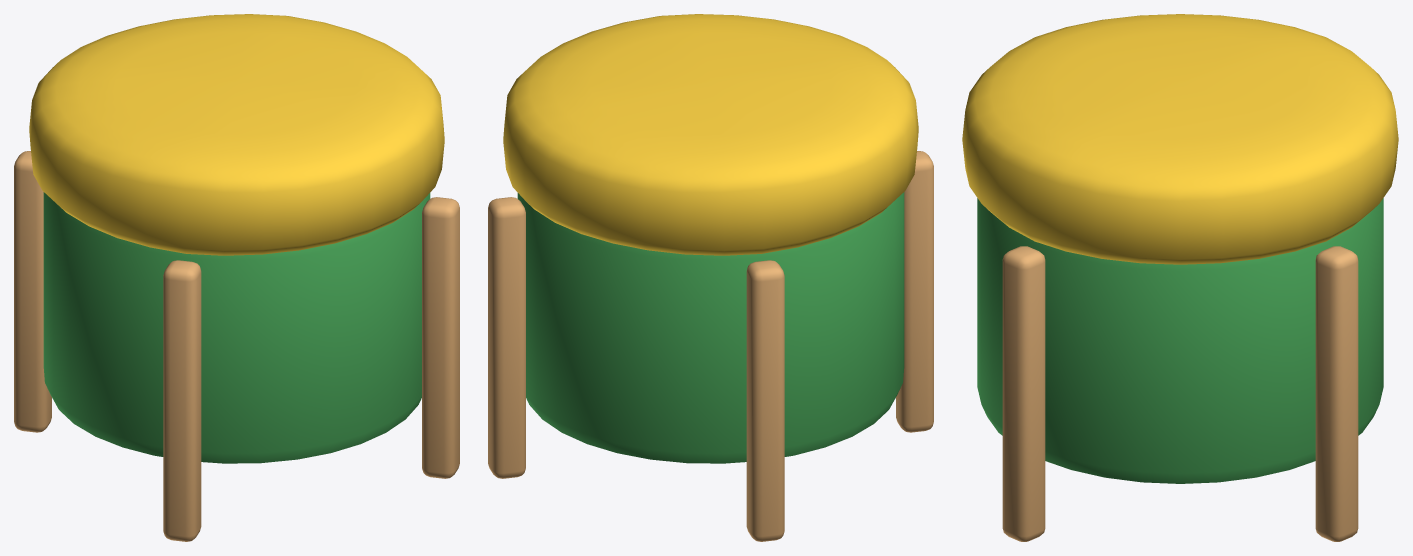
Rendered from pufe_tambor_amarelo_verde.glb.
3 views of the same model, side by side, from view 1: azimuth 30°, elevation 25°; view 2: azimuth 150°, elevation 25°; view 3: azimuth 270°, elevation 25° (orthographic). The views are drawn at different scales.
Parts seen in each view (by area): view 1: pufe_tambor_amarelo_verde; view 2: pufe_tambor_amarelo_verde; view 3: pufe_tambor_amarelo_verde.
Part boxes in pixels (x1=…): pufe_tambor_amarelo_verde: x1=14, y1=14, x2=459, y2=541; pufe_tambor_amarelo_verde: x1=488, y1=14, x2=933, y2=541; pufe_tambor_amarelo_verde: x1=962, y1=14, x2=1398, y2=541.
Size of the model in its own units: 0.43 by 0.42 by 0.43.
1 material, 1 textured.
